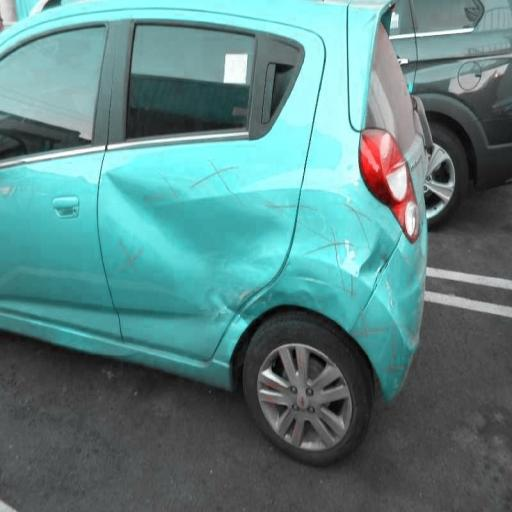dent: (86, 136, 412, 356)
scratch: (310, 190, 410, 354)
